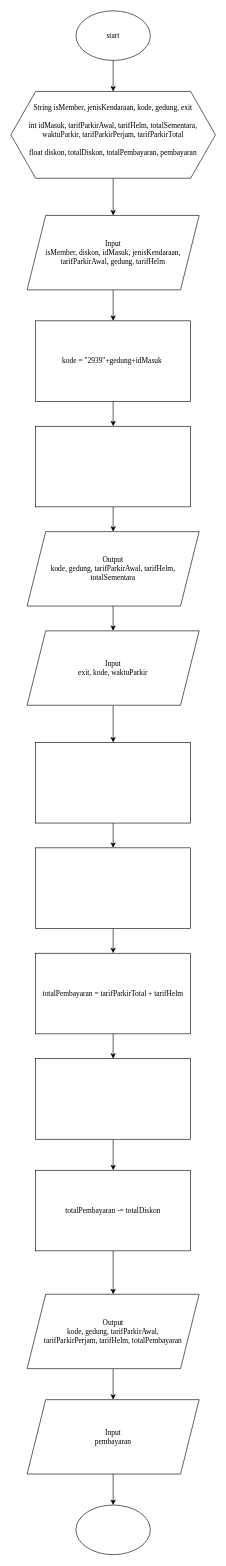
This 226x1566 diagram has some shape labels left out. The shapes that lost their labels are listed below. From the top down, each one's box as (x1, y1, x2, y2) in pixels, then its label:
(35, 426, 191, 507): totalSementara = tarifParkirAwal + tarifHelm
(35, 742, 191, 823): tarifParkirPerjam = (waktuParkir-1)*1000
(35, 847, 191, 928): tarifParkirTotal = tarifParkirAwal + tarifParkirPerjam
(35, 1058, 191, 1139): totalDiskon = totalPembayaran * diskon
(75, 1504, 150, 1555): end
